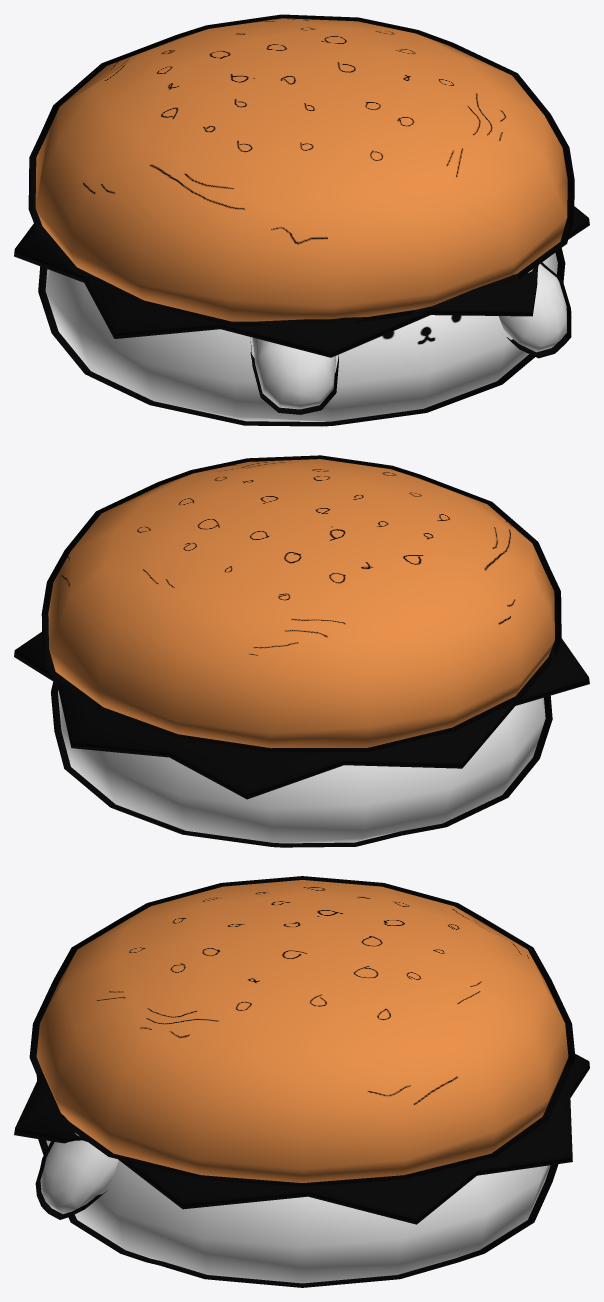
File: bunnybun.fbx
3 renders of one model, top to bottom at view 1: azimuth 30°, elevation 25°; view 2: azimuth 150°, elevation 25°; view 3: azimuth 270°, elevation 25°, orthographic. The views are drawn at different scales.
Visible parts, largest first — view 1: Cube, Cube.002, Plane.001, Cube.001, Cube.003, Cube.007, Cube.005, Cube.006, Cube.004; view 2: Cube, Cube.002, Plane.001, Cube.001, Cube.007; view 3: Cube, Cube.002, Plane.001, Cube.001, Cube.005, Cube.007, Cube.006.
Boxes of the visible parts, box(x1,y1,x2,y2) form: Cube: box(35, 18, 567, 321); Cube.002: box(45, 253, 557, 421); Plane.001: box(14, 206, 589, 357); Cube.001: box(28, 14, 574, 325); Cube.003: box(252, 337, 335, 409); Cube.007: box(38, 248, 565, 426); Cube.005: box(498, 263, 566, 352); Cube.006: box(506, 262, 571, 358); Cube.004: box(250, 338, 338, 414); Cube: box(48, 459, 554, 748); Cube.002: box(58, 690, 545, 843); Plane.001: box(14, 632, 589, 799); Cube.001: box(41, 455, 561, 751); Cube.007: box(51, 682, 552, 847); Cube: box(36, 880, 568, 1182); Cube.002: box(46, 1140, 550, 1283); Plane.001: box(14, 1054, 589, 1224); Cube.001: box(29, 876, 575, 1187); Cube.005: box(40, 1133, 118, 1213); Cube.007: box(38, 1139, 558, 1287); Cube.006: box(35, 1141, 107, 1219).
Bounding box in the file's own units: 698 × 406 × 711.
